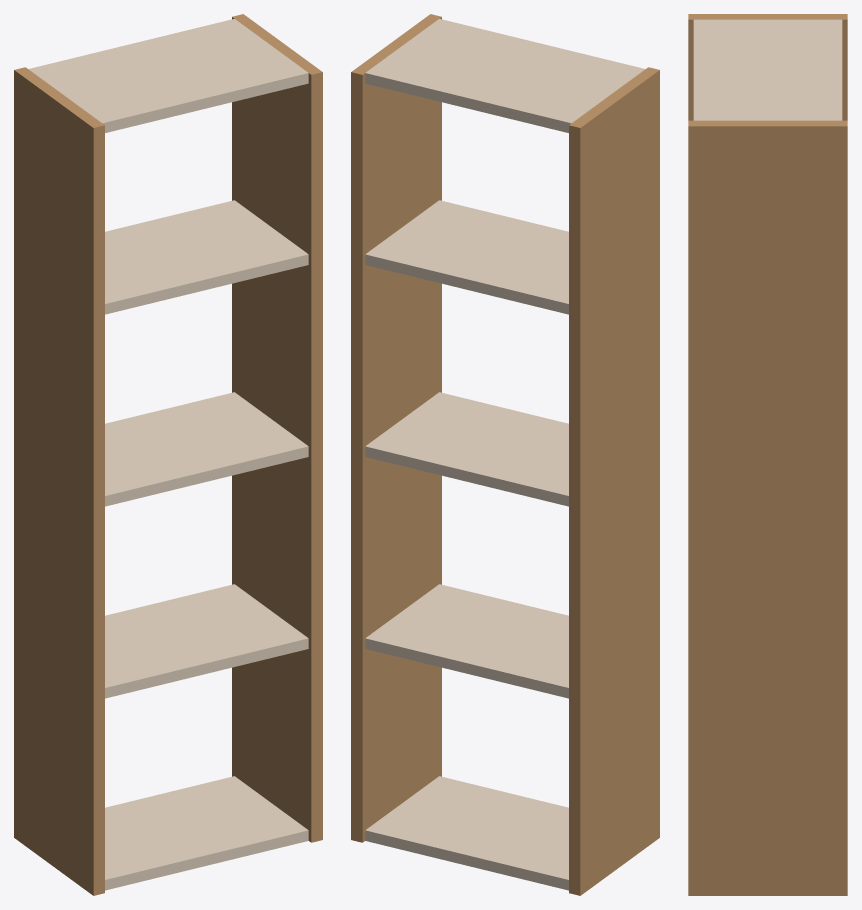
The model's file is booktower-lite.glb.
The picture shows the model from 3 angles, left to right: view 1: azimuth 30°, elevation 25°; view 2: azimuth 150°, elevation 25°; view 3: azimuth 270°, elevation 25°; orthographic projection.
Parts seen in each view (by area): view 1: material-0-body, material-1-shelf; view 2: material-0-body, material-1-shelf; view 3: material-0-body, material-1-shelf.
Boxes of the visible parts, left/top/right/bottom form: material-0-body: left=14, top=14, right=322, bottom=895; material-1-shelf: left=28, top=19, right=308, bottom=890; material-0-body: left=351, top=14, right=659, bottom=895; material-1-shelf: left=365, top=19, right=645, bottom=890; material-0-body: left=688, top=14, right=847, bottom=895; material-1-shelf: left=693, top=19, right=842, bottom=120.
Size of the model in its own units: 0.5 by 1.6 by 0.3.
